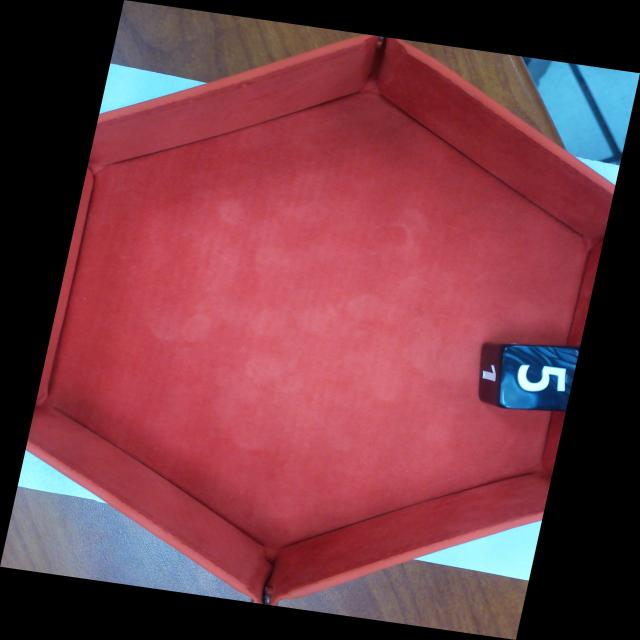dice: (499, 345, 580, 411)
